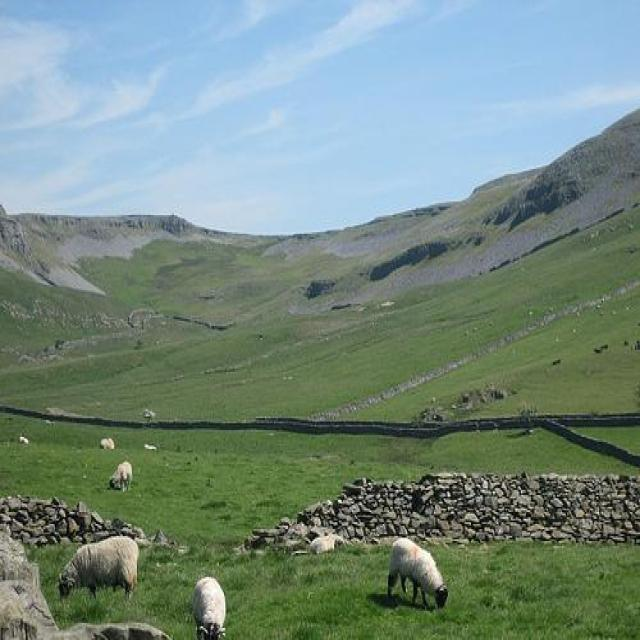Sheep: (56, 532, 144, 610), (388, 538, 448, 609)
